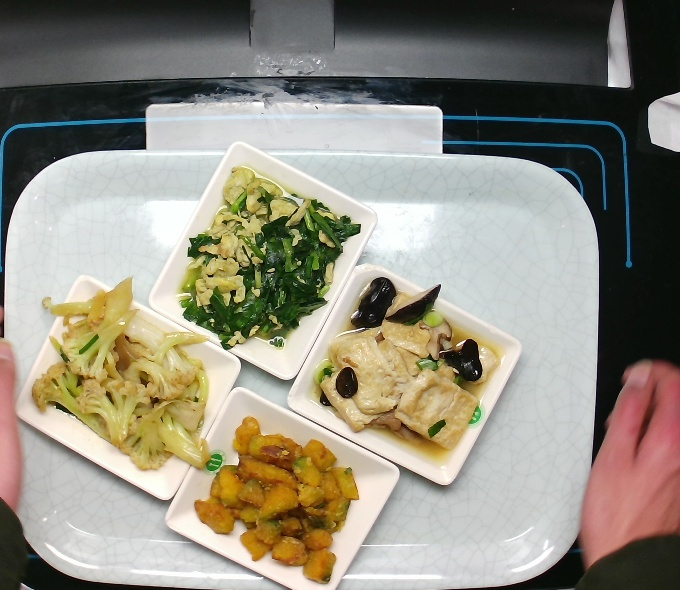wcq-DanHuangNanGua: (187, 412, 381, 588)
wcq-JiaChangDouFu: (300, 269, 497, 453)
wcq-JiuCaiJiDan: (171, 159, 363, 354)
wcq-QiuCai: (24, 286, 220, 475)
